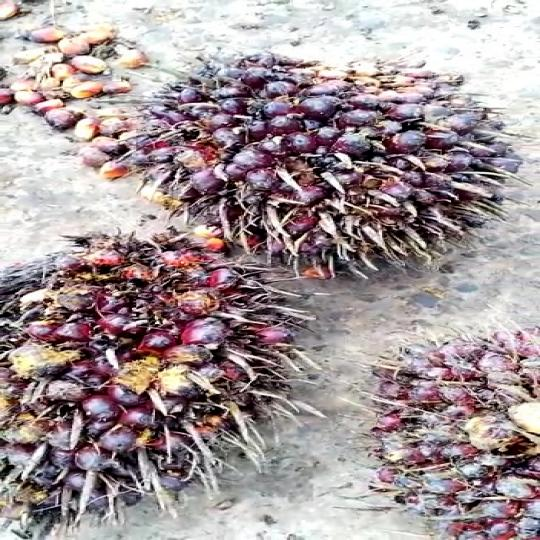masak: (0, 212, 319, 528), (121, 42, 509, 282)
